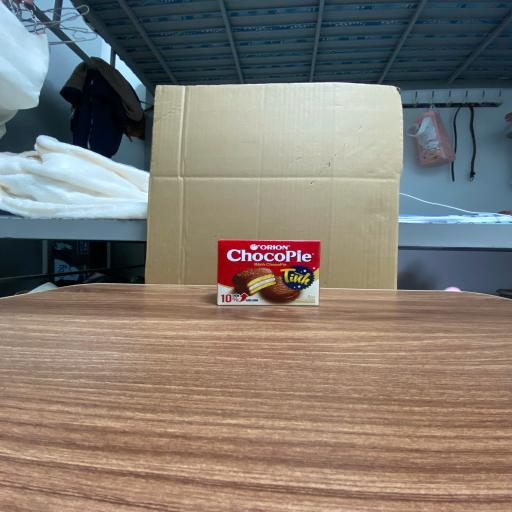chocopie: (218, 239, 320, 305), (219, 240, 319, 307)
